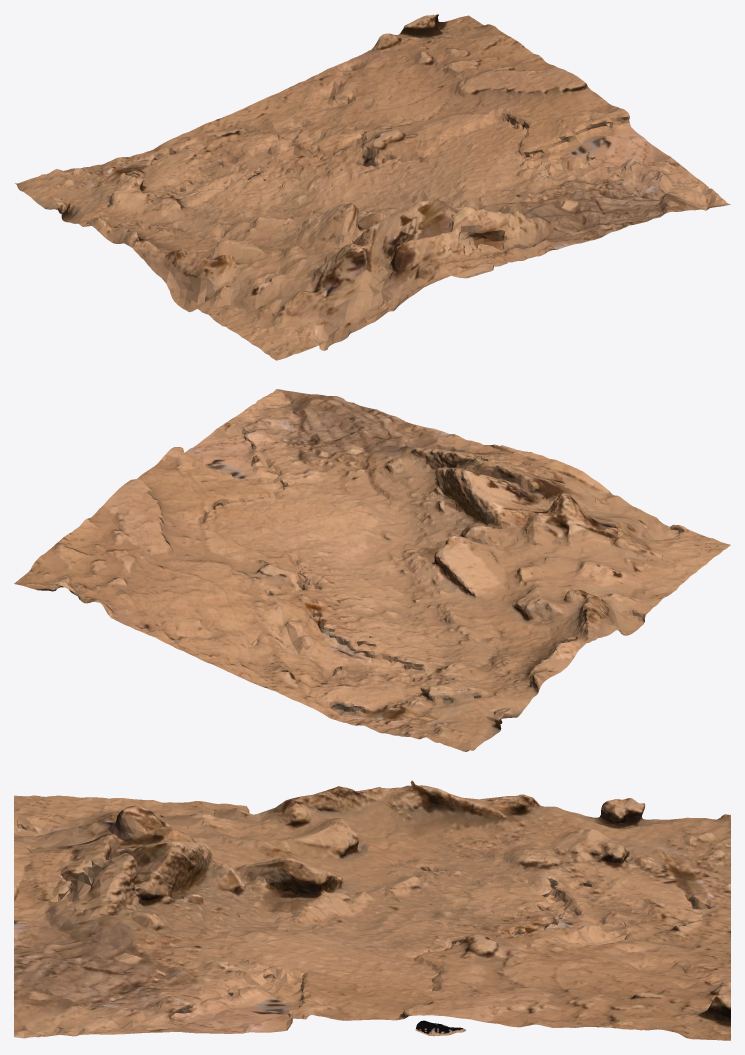
3 renders of one model, top to bottom at view 1: azimuth 30°, elevation 25°; view 2: azimuth 150°, elevation 25°; view 3: azimuth 270°, elevation 25°, orthographic. The views are drawn at different scales.
Size of the model in its own units: 2.09 by 0.4124 by 2.09.
Materials: 3 (3 with a texture image).
